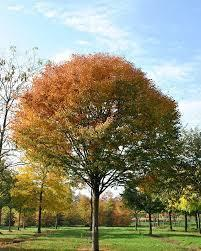tree: (12, 50, 181, 248)
